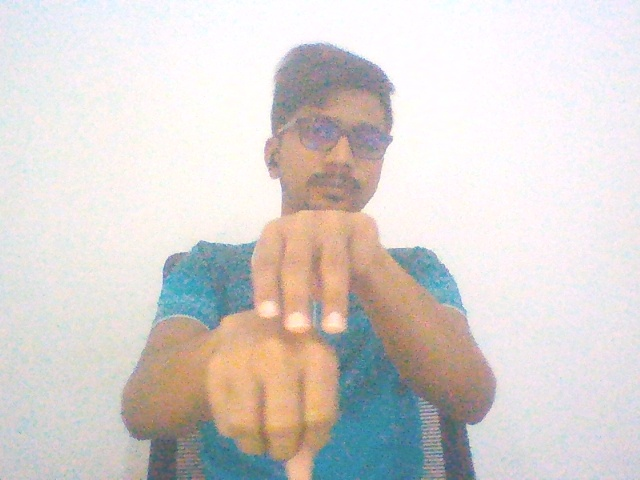papaya: (190, 189, 412, 480)
